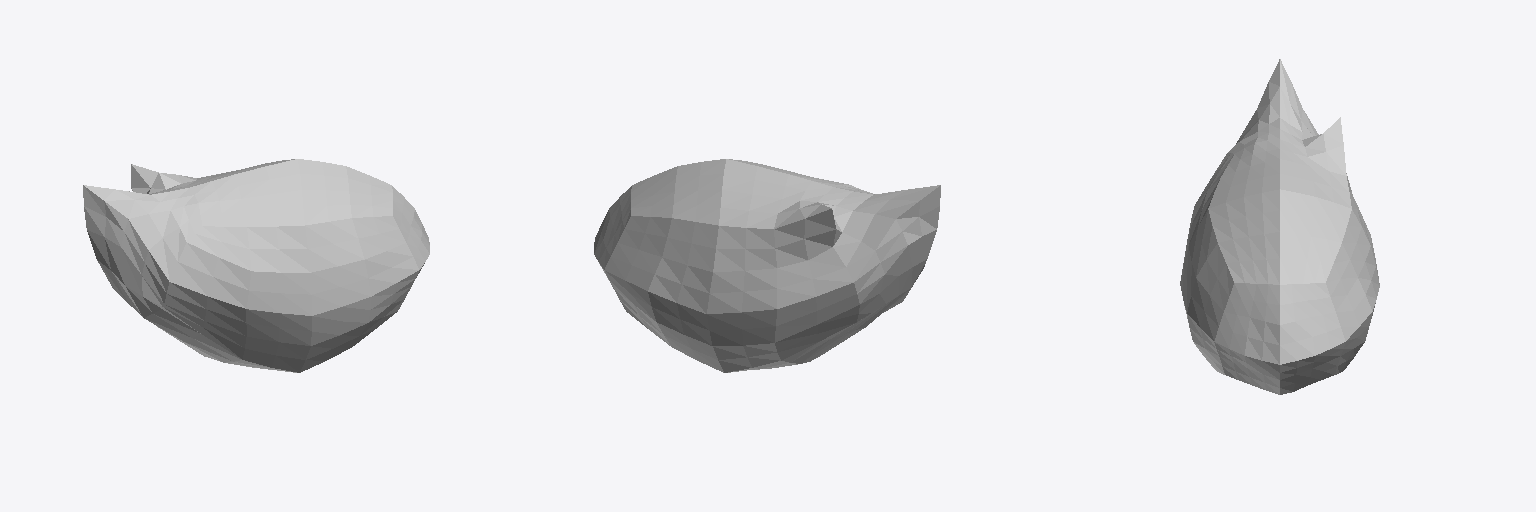
The model's file is FoxTail.obj.
3 renders of one model, left to right at view 1: azimuth 30°, elevation 25°; view 2: azimuth 150°, elevation 25°; view 3: azimuth 270°, elevation 25°, orthographic.
Parts seen in each view (by area): view 1: Cube; view 2: Cube; view 3: Cube.
Part boxes in pixels (left/top/right/bottom): Cube: left=83, top=159, right=429, bottom=372; Cube: left=594, top=159, right=940, bottom=372; Cube: left=1180, top=59, right=1379, bottom=394.
Bounding box in the file's own units: 4.23 × 2.65 × 2.12.